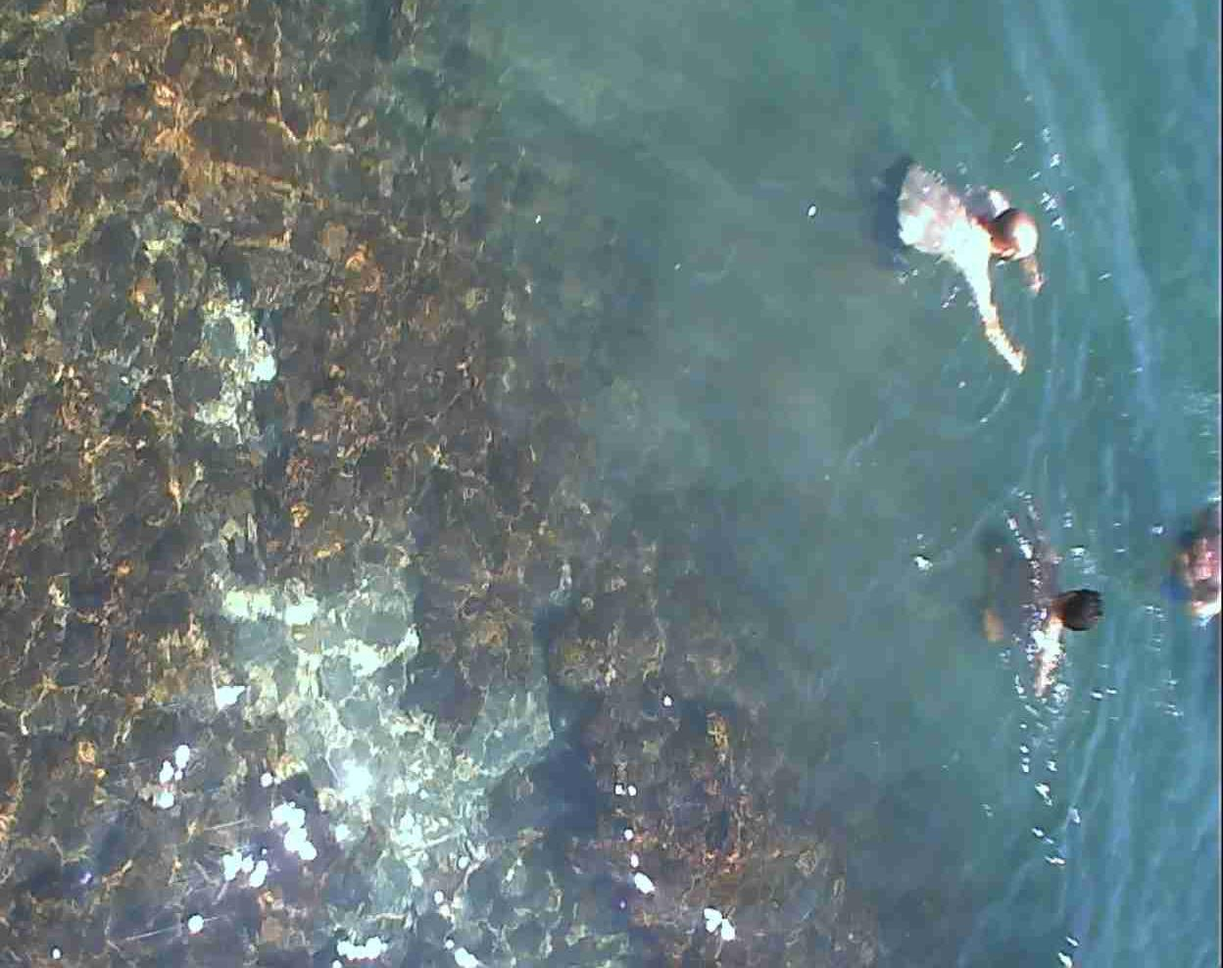swimmer: (870, 134, 1036, 384), (979, 484, 1090, 700), (1173, 495, 1220, 637)
